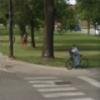crosswalks: (22, 75, 97, 99)
